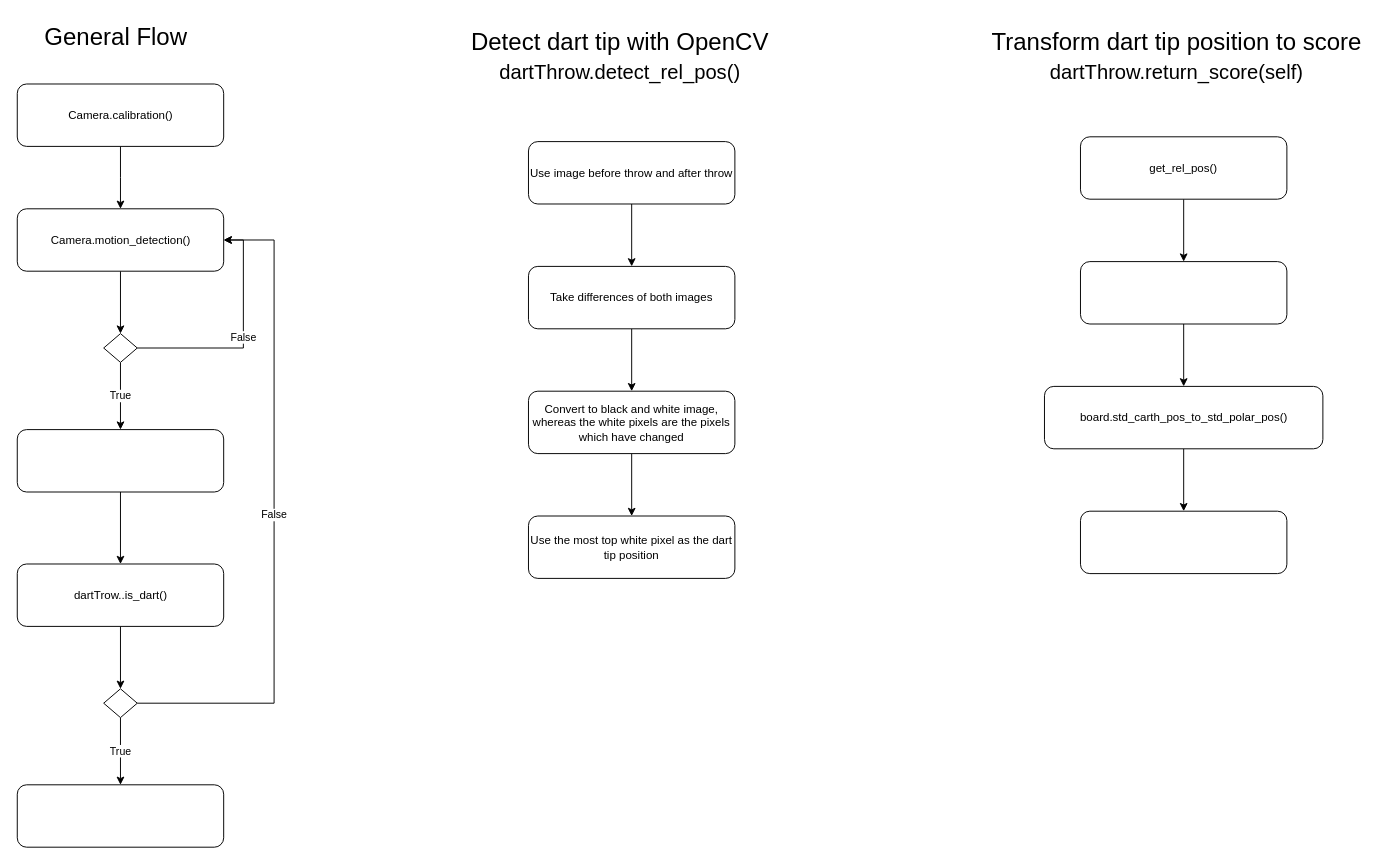
Some shapes in this 1384 by 864 pixel diagram are drawn without their labels. The shapes that lost their labels are listed below. From the top down, each one's centre as x and y in pixels, then its label:
At point 1183,292: "board.rel_carth_pos_to_std_carth_pos()".
At point 120,460: "dartThrow.init()".
At point 1183,542: "board.std_polar_pos_to_score()".
At point 120,815: "dartThrow.return_score()".
